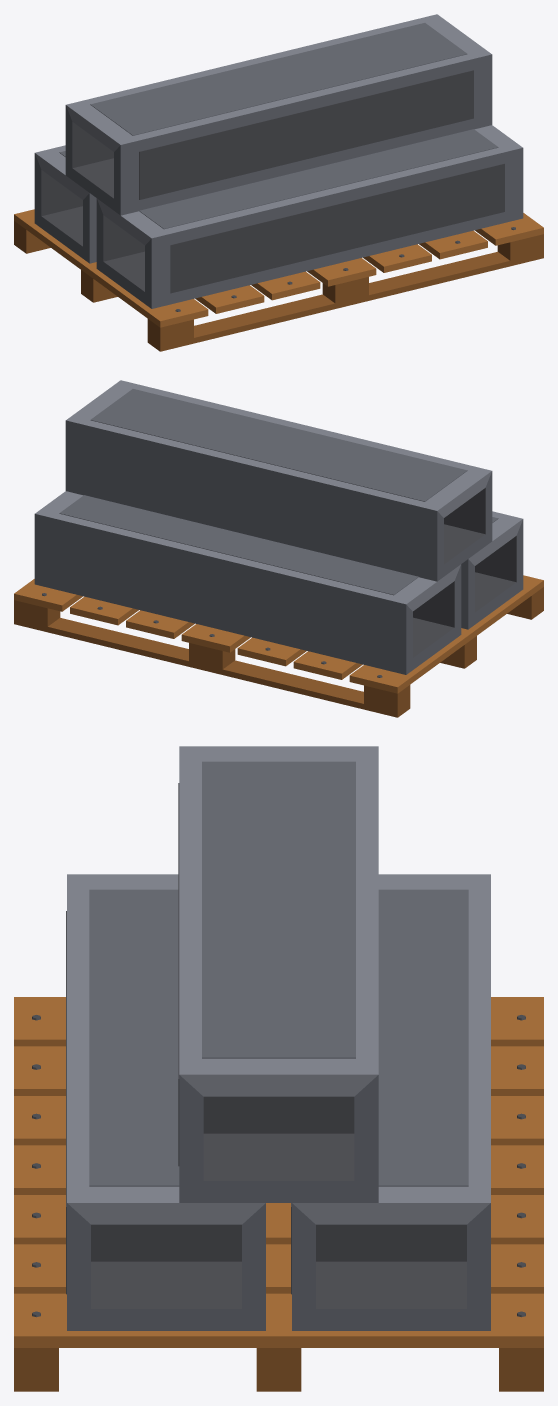
File: steel beams.fbx
3 views of the same model, one above another, from view 1: azimuth 30°, elevation 25°; view 2: azimuth 150°, elevation 25°; view 3: azimuth 270°, elevation 25° (orthographic). The views are drawn at different scales.
Visible parts, largest first — view 1: Steel_Beams; view 2: Steel_Beams; view 3: Steel_Beams.
Part boxes in pixels (left/top/right/bottom): Steel_Beams: left=14, top=14, right=543, bottom=351; Steel_Beams: left=14, top=380, right=543, bottom=717; Steel_Beams: left=14, top=746, right=543, bottom=1391.
Size of the model in its own units: 250 by 107 by 165.
